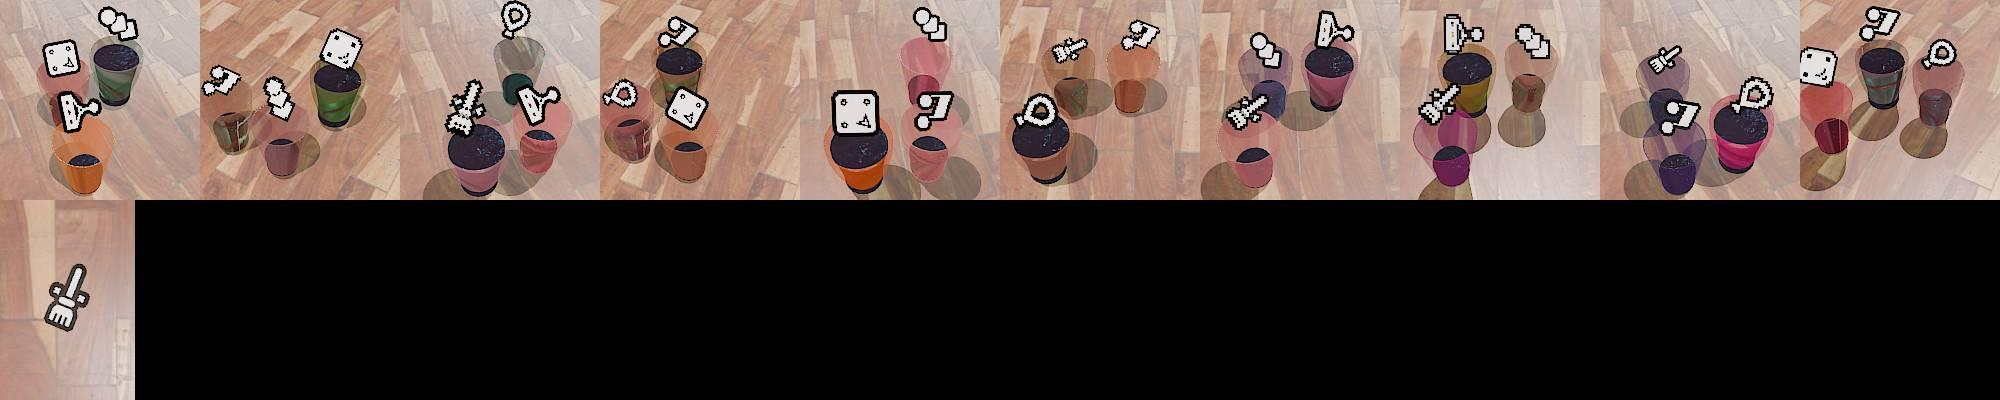icon: (42, 262, 89, 332), (832, 89, 880, 137), (516, 81, 563, 126), (1417, 81, 1462, 126), (664, 85, 708, 130), (319, 27, 364, 71), (57, 91, 102, 132), (1444, 13, 1486, 56), (913, 90, 955, 131), (1314, 10, 1354, 52), (1799, 46, 1839, 87), (1659, 96, 1702, 134), (1016, 92, 1060, 129), (1733, 75, 1774, 114), (41, 39, 81, 78), (1225, 93, 1267, 130), (263, 75, 295, 122), (98, 5, 138, 42), (1860, 6, 1902, 41), (1514, 23, 1551, 61), (1250, 31, 1286, 69), (1121, 18, 1160, 52), (912, 6, 947, 43), (499, 3, 531, 42), (203, 65, 241, 96), (1049, 35, 1088, 65), (1647, 43, 1683, 75), (601, 79, 639, 108), (1922, 39, 1957, 70), (665, 16, 699, 44), (446, 110, 478, 137)
